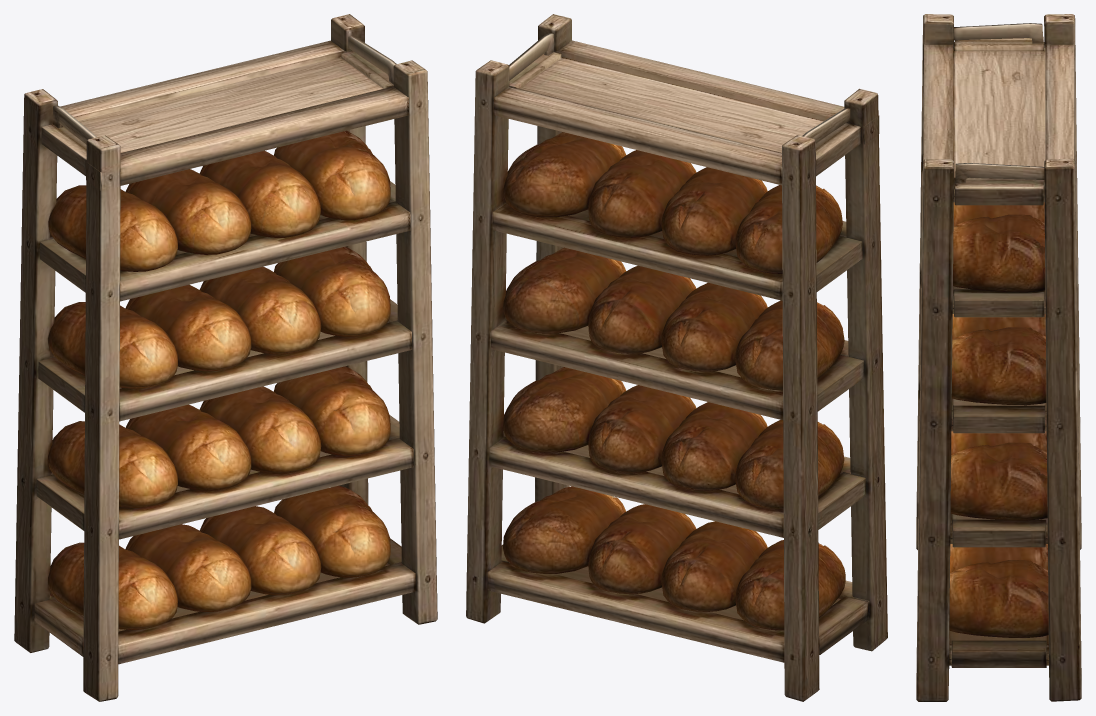
Rendered from act1-a24-2-bread-rack.glb.
3 views of the same model, side by side, from view 1: azimuth 30°, elevation 25°; view 2: azimuth 150°, elevation 25°; view 3: azimuth 270°, elevation 25° (orthographic). The views are drawn at different scales.
Visible parts, largest first — view 1: act1-a24-2-bread-rack; view 2: act1-a24-2-bread-rack; view 3: act1-a24-2-bread-rack.
Boxes of the visible parts, x1=… form: act1-a24-2-bread-rack: x1=14, y1=14, x2=437, y2=701; act1-a24-2-bread-rack: x1=466, y1=14, x2=887, y2=701; act1-a24-2-bread-rack: x1=916, y1=14, x2=1081, y2=701.
Size of the model in its own units: 1.16 by 1.8 by 0.5076.
Materials: 1 (1 with a texture image).
